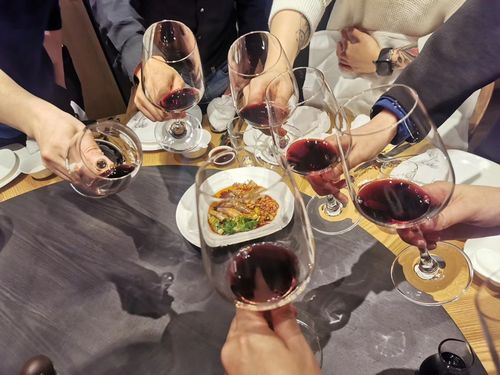food: (198, 161, 292, 246)
